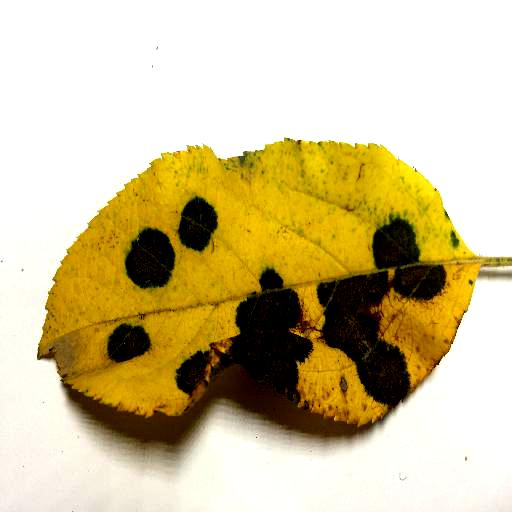Brown_Spot: (312, 281, 414, 407), (224, 281, 311, 412), (371, 226, 420, 268), (174, 199, 214, 245), (131, 237, 171, 280), (110, 326, 151, 363), (396, 264, 441, 297), (177, 353, 206, 391)
